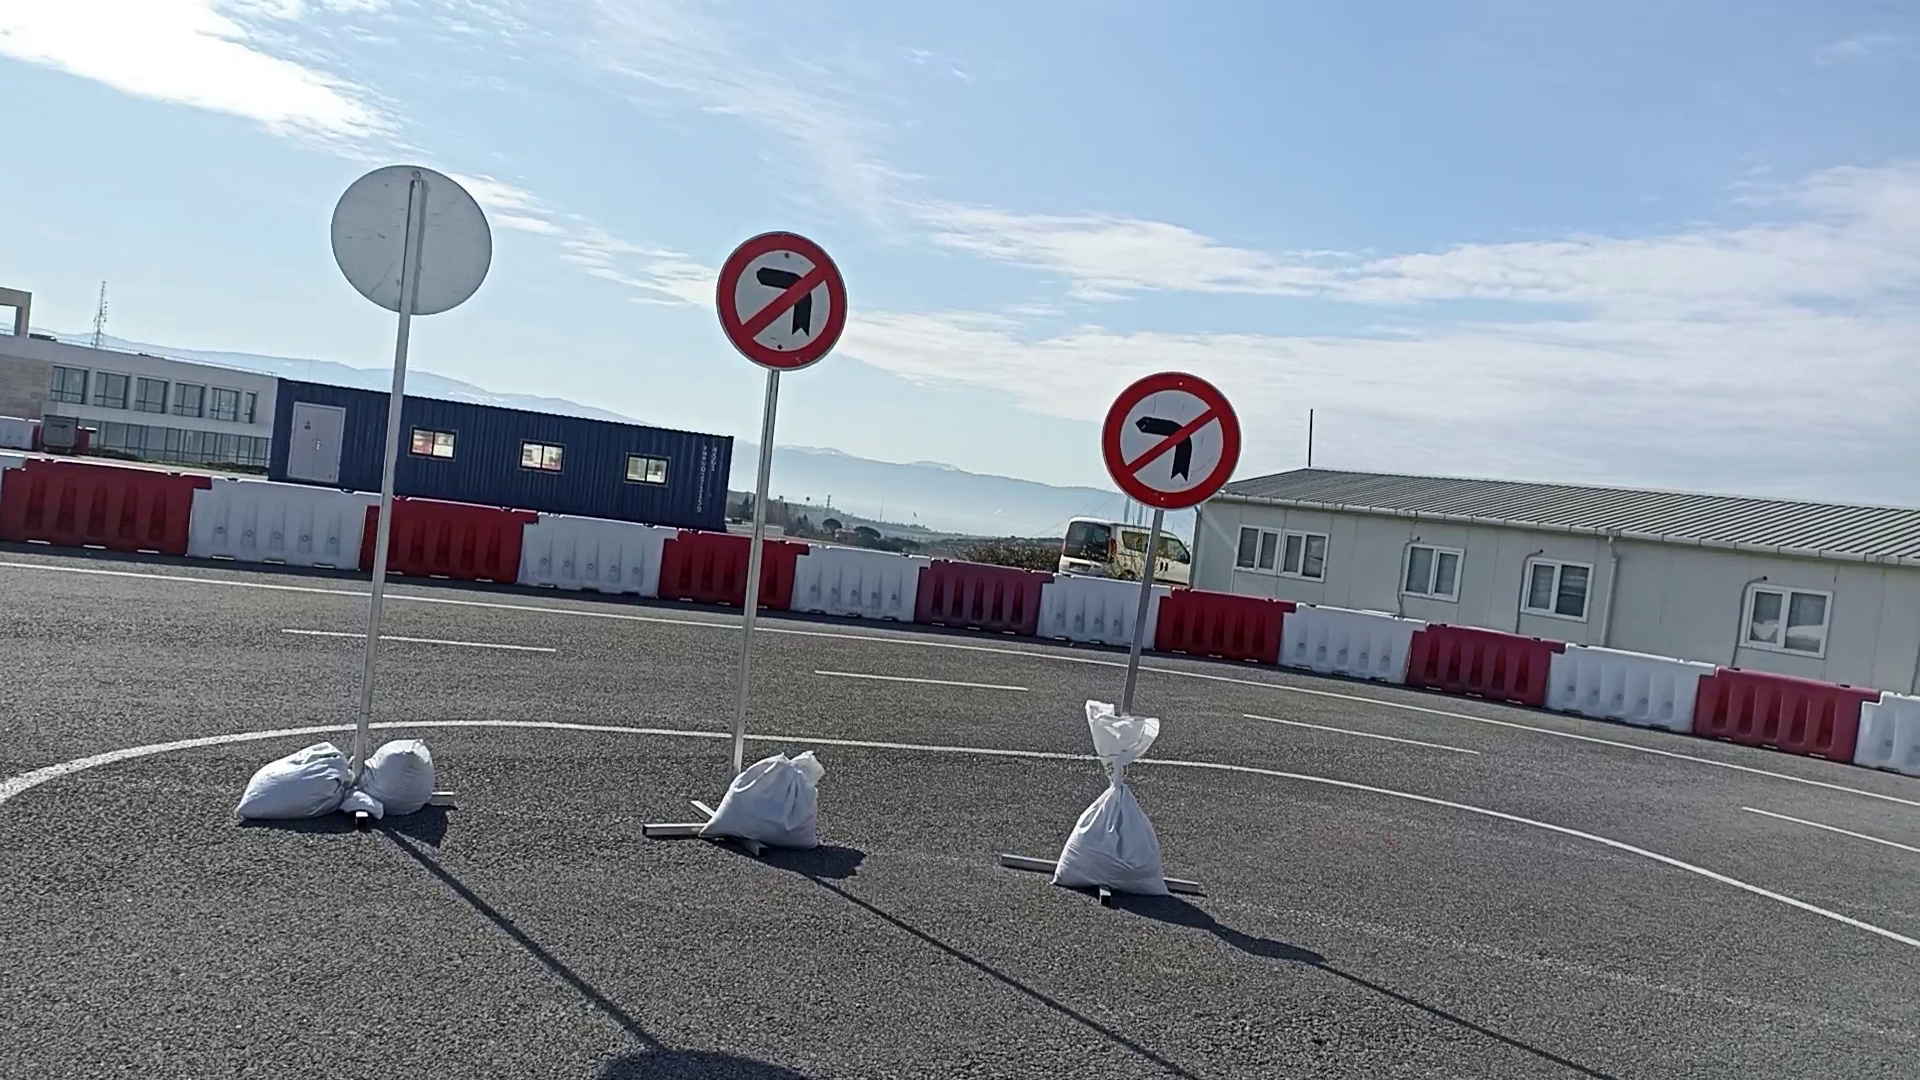noleft: (1098, 367, 1245, 512), (713, 229, 851, 375)
